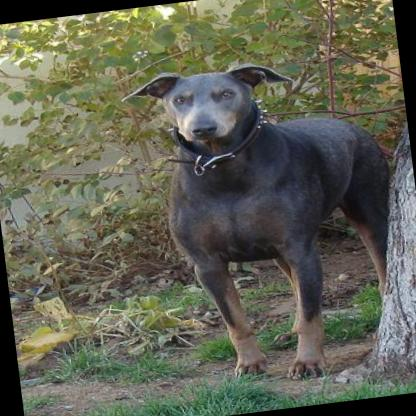Doberman: (114, 45, 413, 400)
